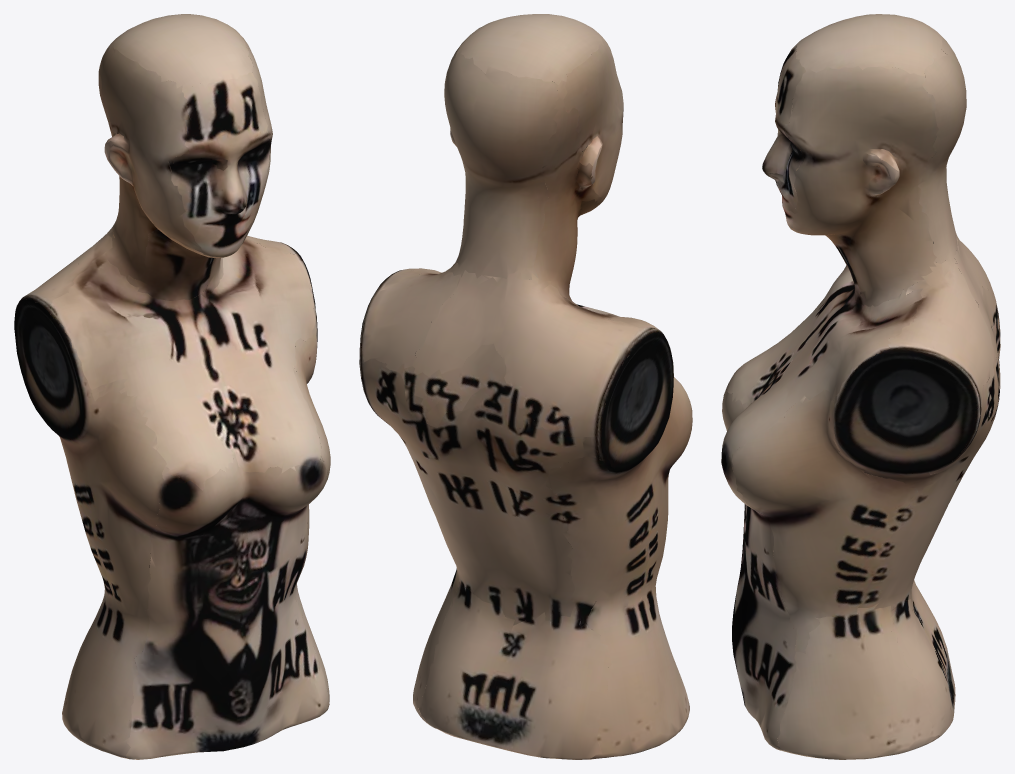
3 renders of one model, left to right at view 1: azimuth 30°, elevation 25°; view 2: azimuth 150°, elevation 25°; view 3: azimuth 270°, elevation 25°, orthographic. The views are drawn at different scales.
Parts seen in each view (by area): view 1: geometry_0.001; view 2: geometry_0.001; view 3: geometry_0.001.
Part boxes in pixels (x1=…): geometry_0.001: x1=14, y1=14, x2=330, y2=759; geometry_0.001: x1=359, y1=14, x2=692, y2=759; geometry_0.001: x1=721, y1=14, x2=1000, y2=759.
Bounding box in the file's own units: 0.7795 × 1.99 × 0.7386.
Materials: 1 (1 with a texture image).
